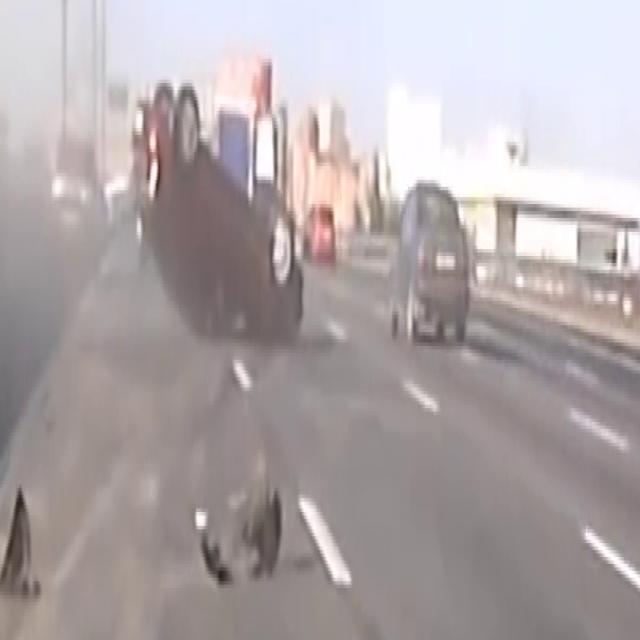accident: (121, 93, 321, 389)
